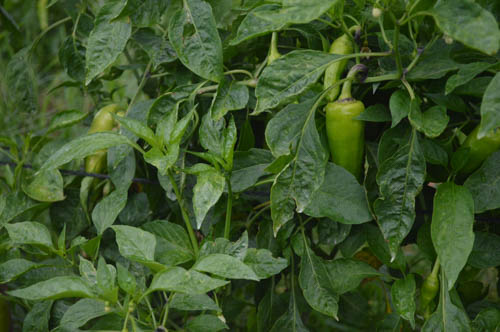ChiliPepper: (78, 104, 132, 200), (325, 97, 370, 181), (452, 114, 499, 187), (321, 32, 359, 108), (417, 269, 444, 322)
